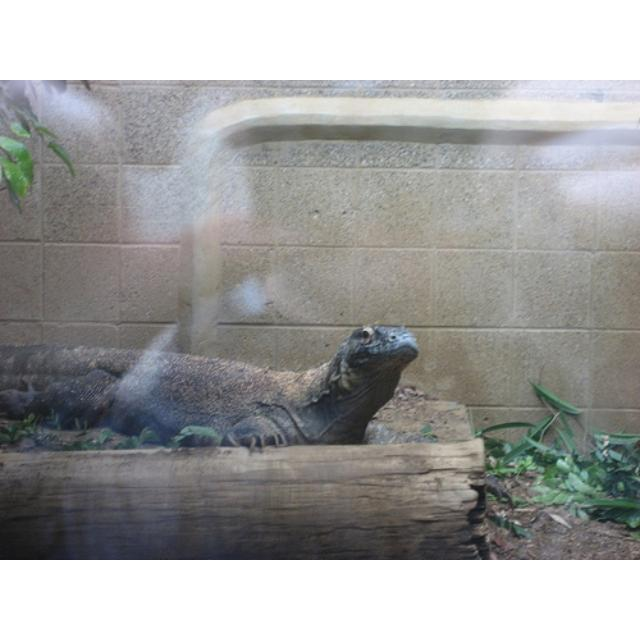KomodoDragon: (2, 321, 423, 456)
